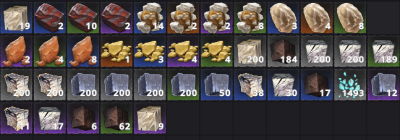cinnabar mineral: (32, 1, 67, 34), (100, 1, 131, 32), (68, 1, 98, 33)
dolomite mineral: (133, 1, 165, 32), (167, 1, 198, 32), (201, 2, 232, 33), (234, 2, 265, 33)
ethereal dust: (336, 70, 365, 99)
granite stone: (135, 70, 165, 100), (68, 70, 98, 99), (369, 70, 398, 100), (169, 70, 198, 99), (202, 70, 231, 99), (103, 70, 131, 100)
halite mineral: (267, 2, 298, 34), (334, 1, 364, 32), (302, 2, 331, 32)
limestone stone: (1, 69, 32, 99), (1, 103, 32, 133), (35, 70, 64, 100), (235, 70, 265, 99)
marble stone: (302, 36, 331, 65), (369, 37, 398, 65), (269, 71, 297, 99), (336, 37, 363, 66), (36, 104, 63, 133)
nitre mineral: (1, 35, 31, 66), (68, 35, 97, 65), (35, 36, 64, 65)
slate stone: (268, 35, 298, 66), (68, 102, 98, 133), (102, 103, 131, 133), (302, 71, 332, 99)
sulphur mineral: (100, 35, 132, 66), (134, 35, 165, 66), (167, 35, 197, 66), (201, 35, 231, 66)
travertine stone: (1, 1, 32, 32), (234, 36, 264, 66), (135, 103, 164, 133)
